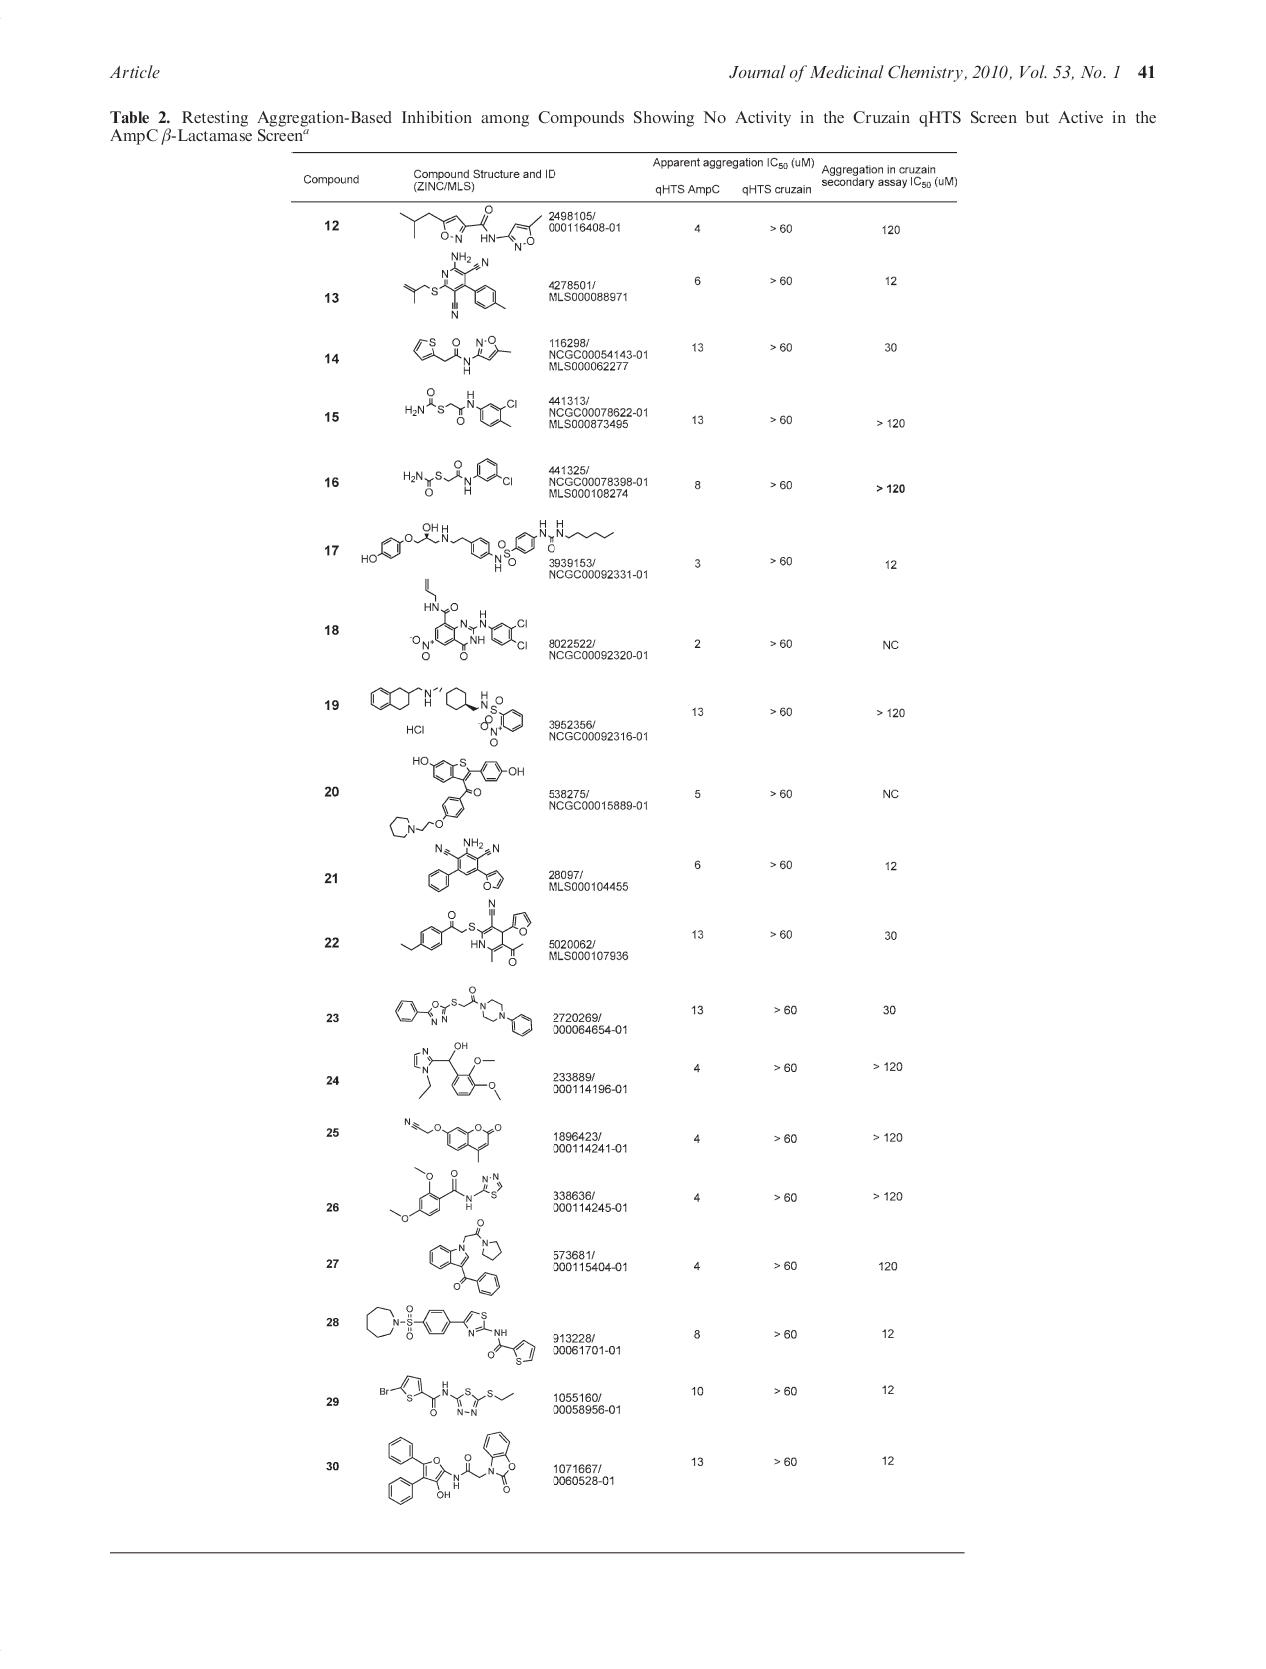exist_molecular: (360, 521, 616, 572), (388, 754, 527, 840), (364, 1303, 539, 1366), (408, 576, 529, 662), (368, 684, 527, 747), (386, 1430, 517, 1505), (398, 899, 533, 968), (394, 985, 535, 1039), (403, 251, 508, 321), (398, 205, 544, 253), (390, 1165, 504, 1223), (379, 1372, 517, 1418), (427, 1218, 503, 1297), (411, 1041, 501, 1101), (403, 1116, 504, 1164), (403, 386, 519, 427), (426, 836, 505, 894), (402, 457, 515, 497), (411, 334, 512, 376)
